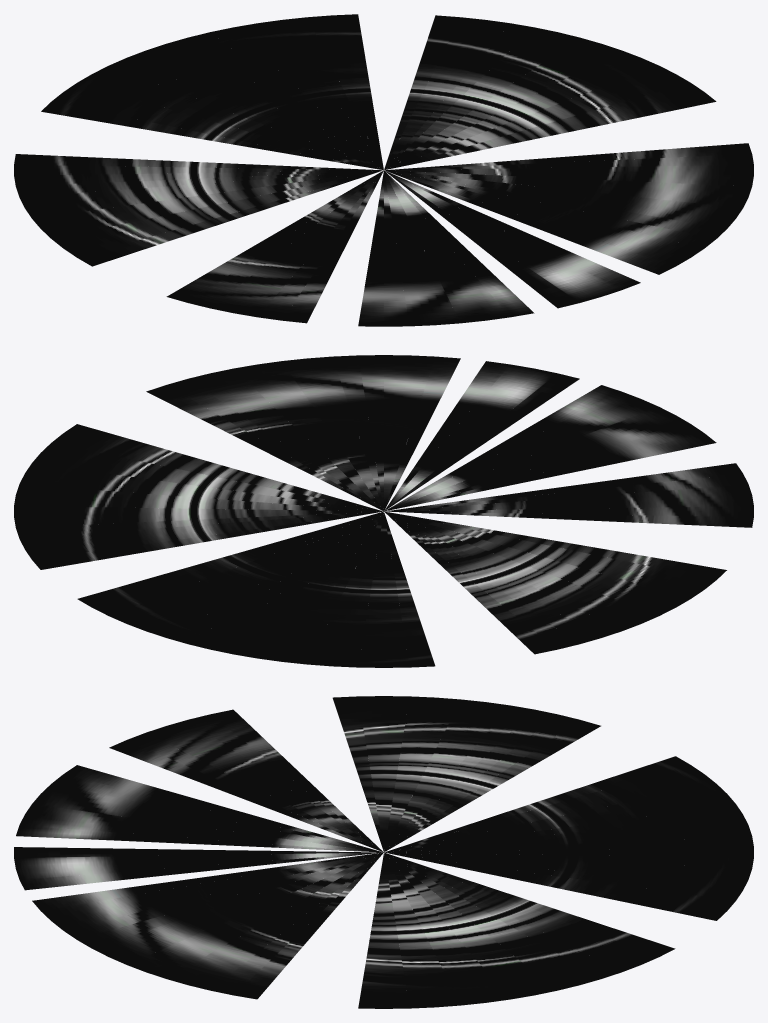
The model's file is 0379_mega_ring_z02.glb.
3 renders of one model, top to bottom at view 1: azimuth 30°, elevation 25°; view 2: azimuth 150°, elevation 25°; view 3: azimuth 270°, elevation 25°, orthographic.
Bounding box in the file's own units: 2.2 × 5.34e-07 × 2.2.
1 material, 1 textured.
